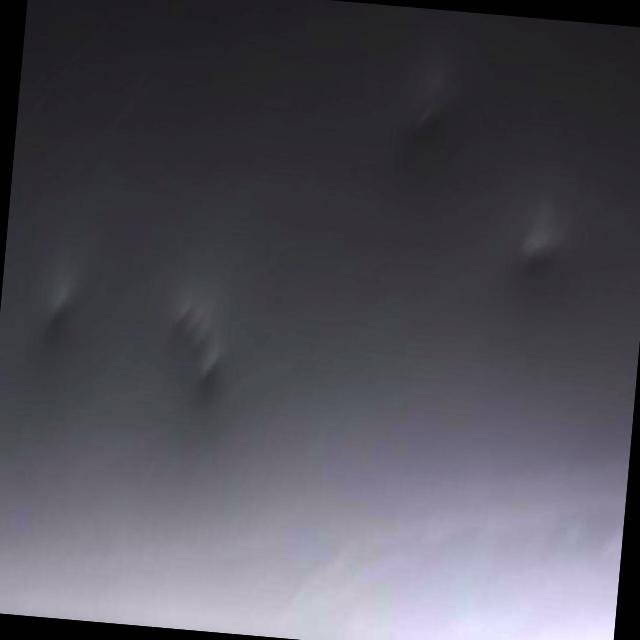dent: (140, 286, 239, 442), (18, 247, 106, 345), (520, 218, 580, 280), (398, 76, 438, 160)
